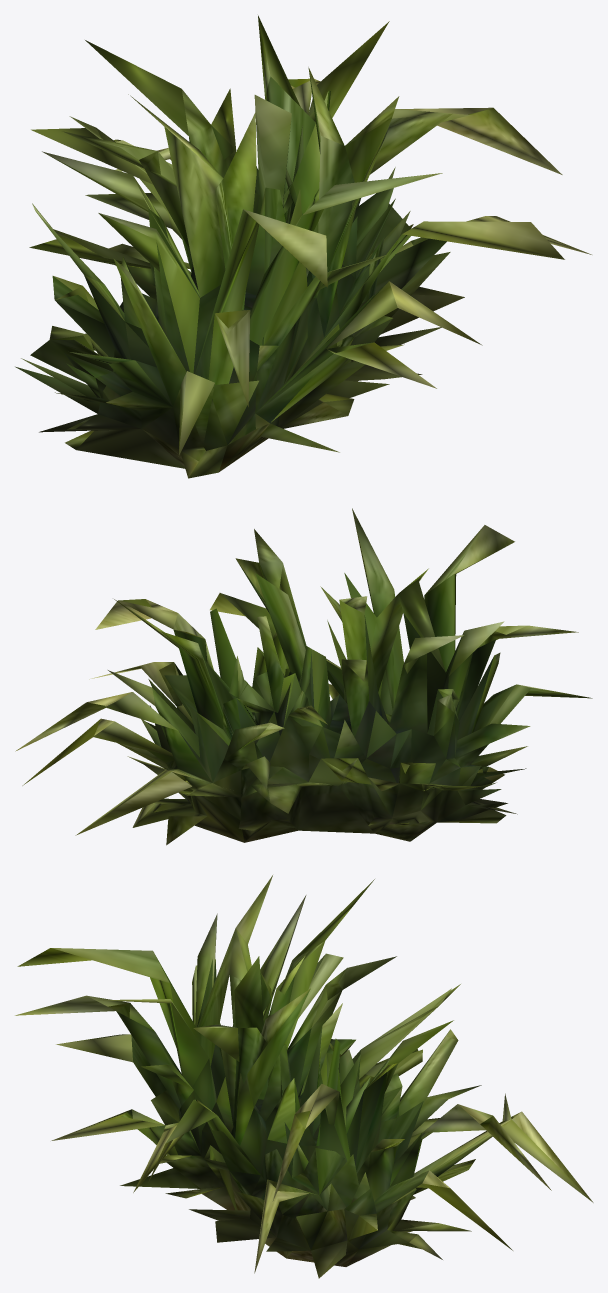
Rendered from grass_tuft_1.glb.
3 views of the same model, one above another, from view 1: azimuth 30°, elevation 25°; view 2: azimuth 150°, elevation 25°; view 3: azimuth 270°, elevation 25° (orthographic). The views are drawn at different scales.
Parts seen in each view (by area): view 1: tripo_node_7ac3d90a-8751-476c-9687-198a5a3f9aa1.002; view 2: tripo_node_7ac3d90a-8751-476c-9687-198a5a3f9aa1.002; view 3: tripo_node_7ac3d90a-8751-476c-9687-198a5a3f9aa1.002.
Part boxes in pixels (left/top/right/bottom): tripo_node_7ac3d90a-8751-476c-9687-198a5a3f9aa1.002: left=15, top=15, right=591, bottom=478; tripo_node_7ac3d90a-8751-476c-9687-198a5a3f9aa1.002: left=15, top=508, right=592, bottom=845; tripo_node_7ac3d90a-8751-476c-9687-198a5a3f9aa1.002: left=15, top=875, right=593, bottom=1278.
Size of the model in its own units: 0.4895 by 0.3087 by 0.5341.
Materials: 1 (1 with a texture image).
